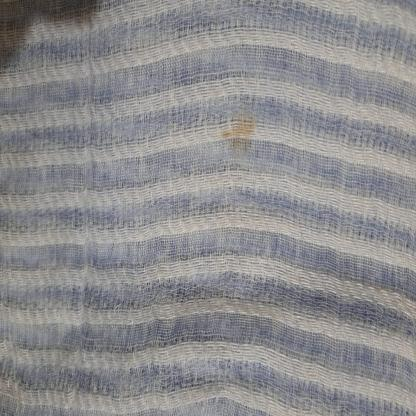spot: (221, 99, 262, 179)
